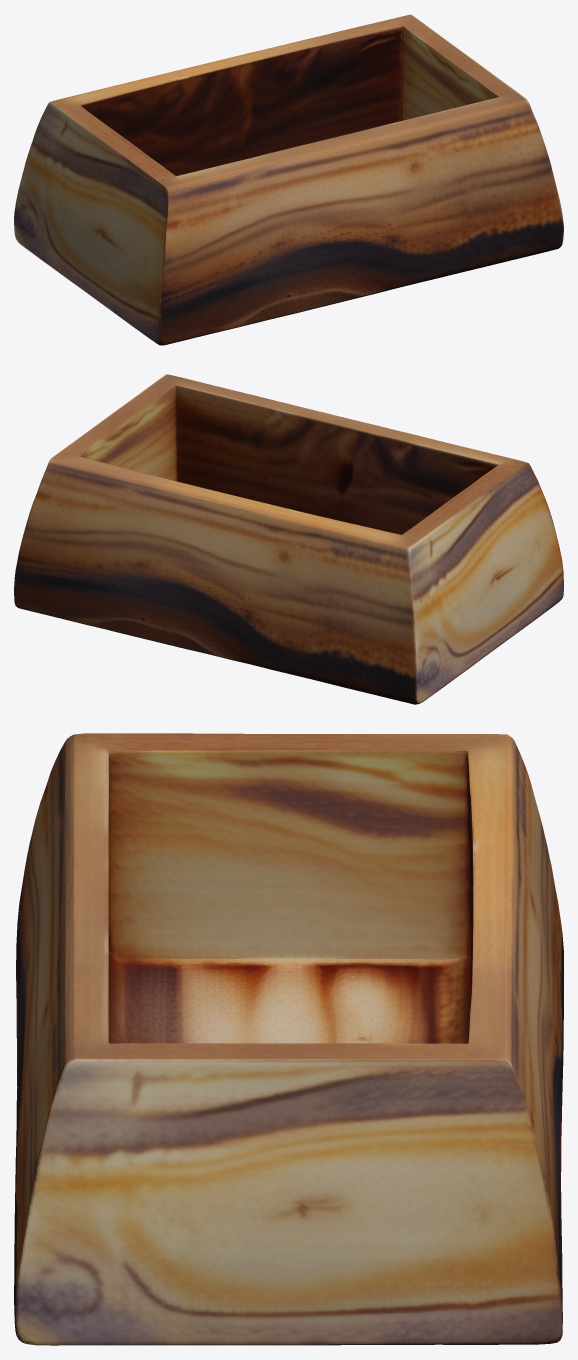
Rendered from wooden-business-card-holder-rustic.jpeg.glb.
3 views of the same model, one above another, from view 1: azimuth 30°, elevation 25°; view 2: azimuth 150°, elevation 25°; view 3: azimuth 270°, elevation 25° (orthographic). The views are drawn at different scales.
Visible parts, largest first — view 1: world; view 2: world; view 3: world.
Part boxes in pixels (bbox=[...]): world: bbox=[14, 14, 563, 345]; world: bbox=[14, 374, 563, 704]; world: bbox=[14, 733, 563, 1345].
Bounding box in the file's own units: 1 × 0.3411 × 0.6343.
Materials: 1 (1 with a texture image).
